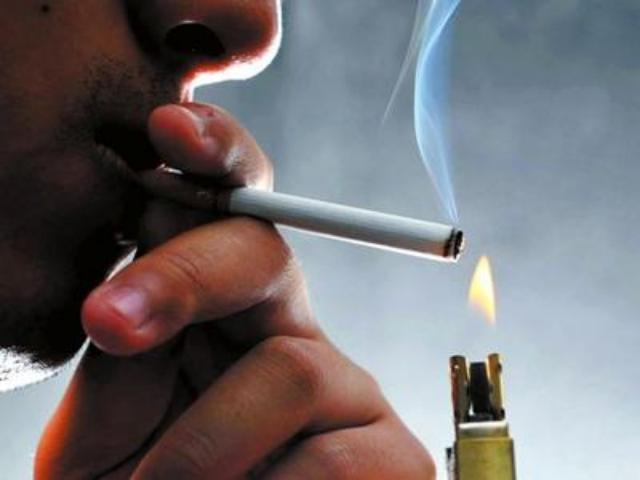Smoking: (138, 168, 466, 262)
